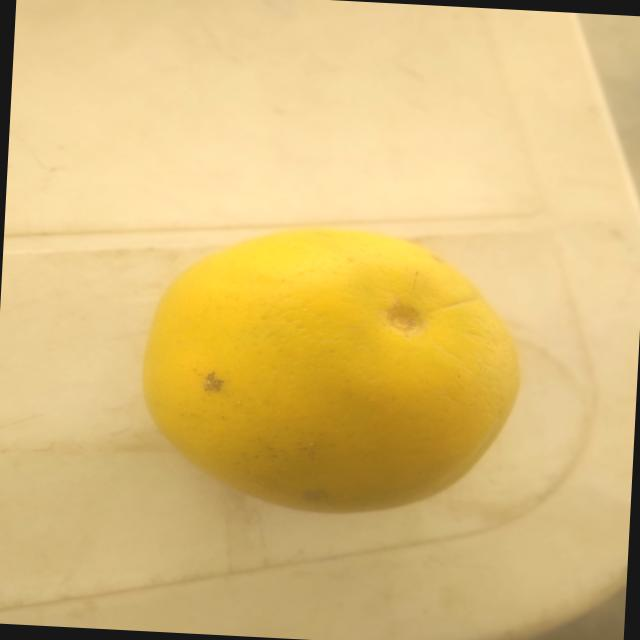Ripe orange: (130, 215, 537, 532)
